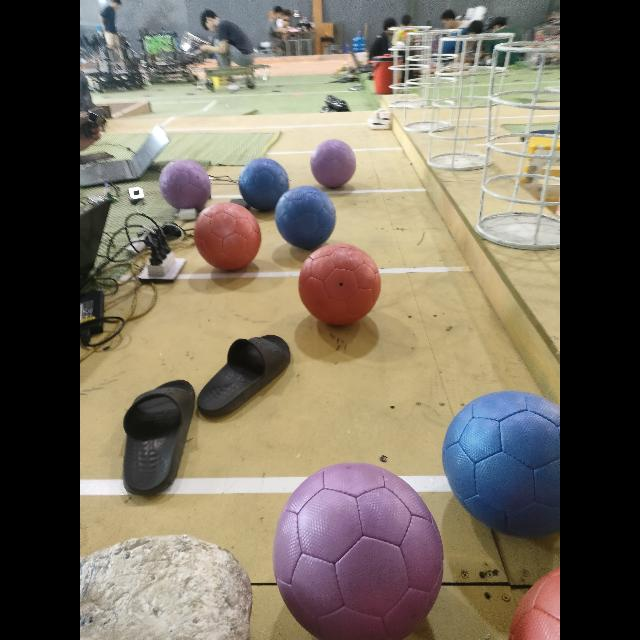B: (442, 390, 560, 538), (275, 187, 335, 250), (238, 157, 290, 211)
P: (274, 462, 442, 640), (160, 159, 210, 209), (310, 139, 356, 187)
R: (299, 243, 381, 325), (194, 202, 262, 270), (509, 568, 559, 640)
